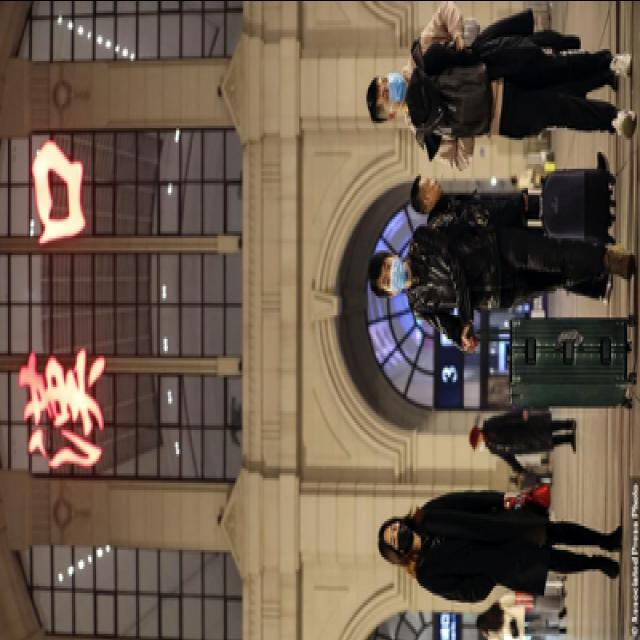mask: (378, 72, 404, 112), (379, 256, 406, 292), (389, 522, 411, 554)
no_mask: (422, 178, 442, 196)
